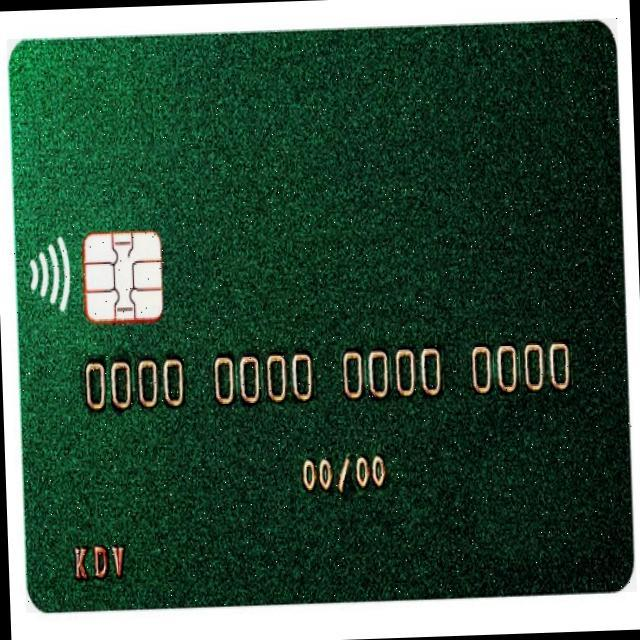payment_card: (3, 14, 635, 618)
